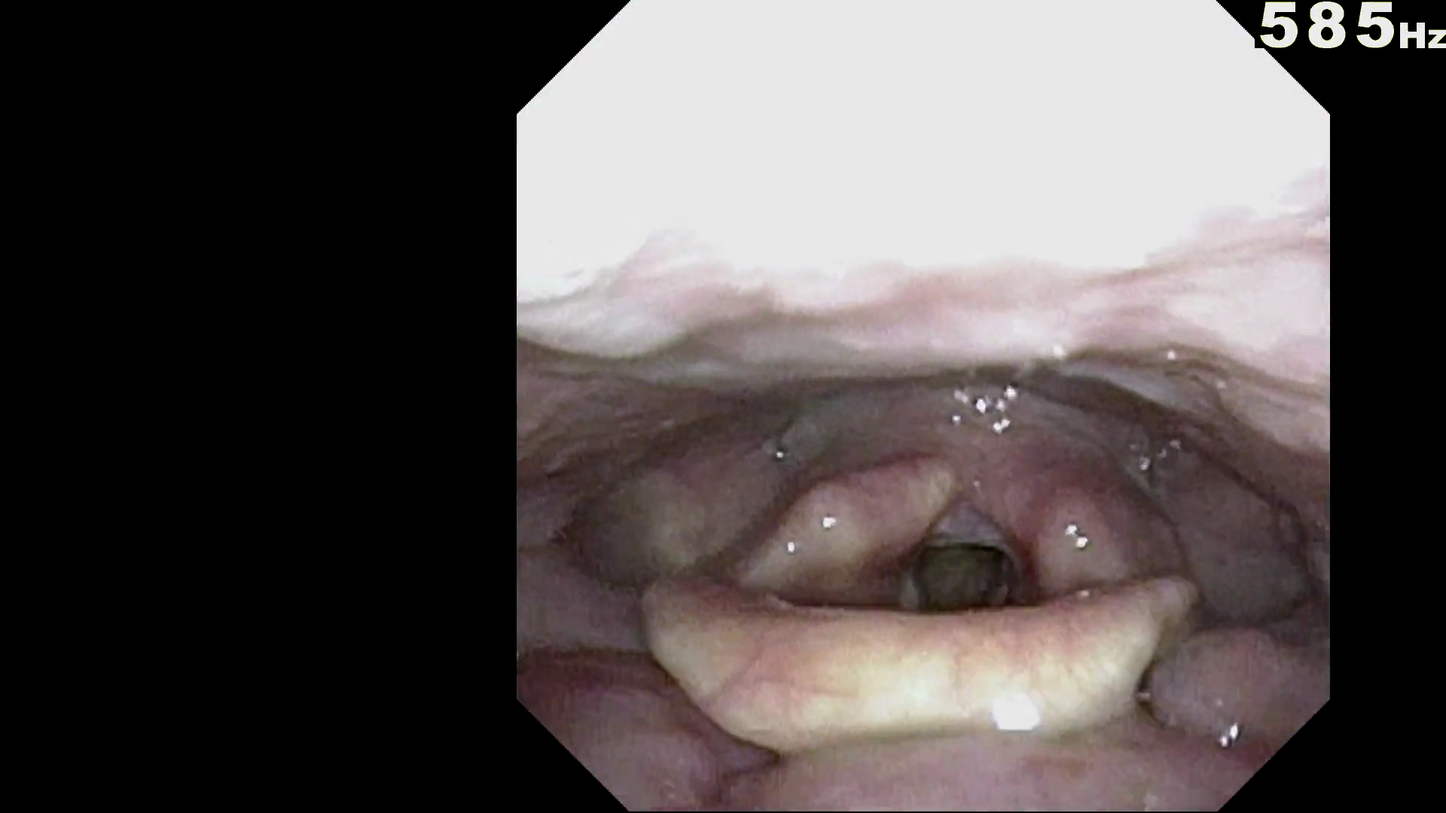epiglottis: (644, 594, 1185, 734)
trachea: (895, 533, 1023, 627)
